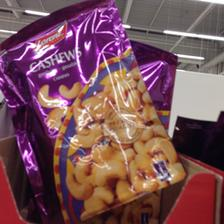Nuss: (0, 0, 188, 222)
